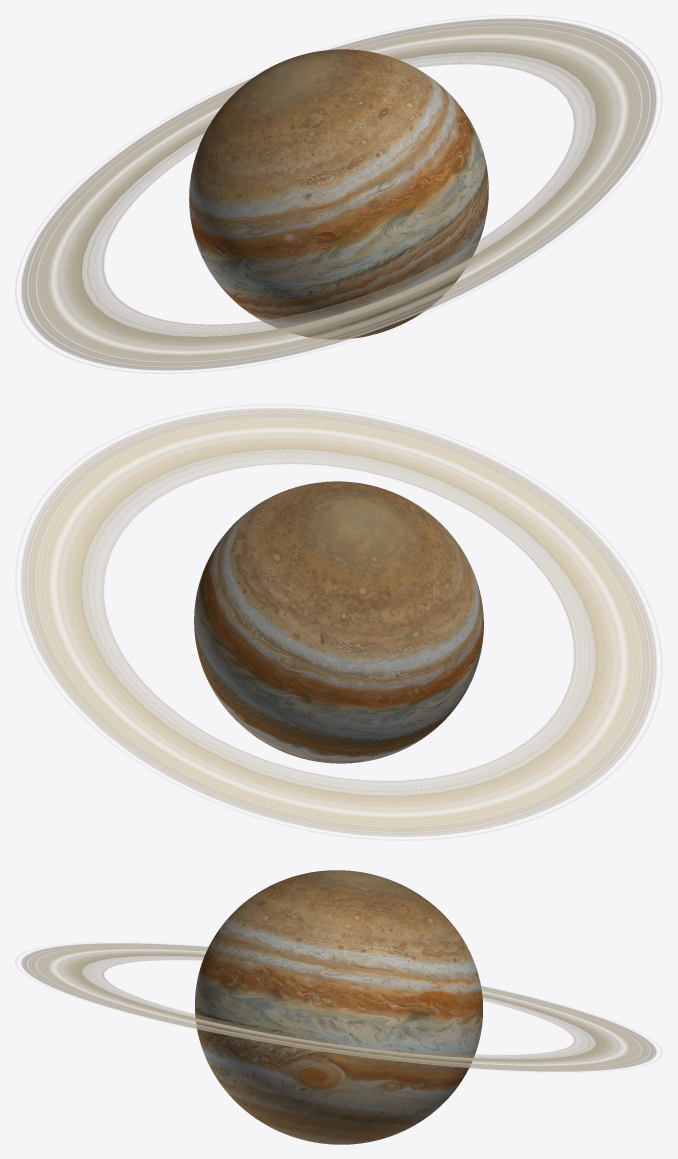
The model's file is jupiter.glb.
The picture shows the model from 3 angles, top to bottom: view 1: azimuth 30°, elevation 25°; view 2: azimuth 150°, elevation 25°; view 3: azimuth 270°, elevation 25°; orthographic projection. The views are drawn at different scales.
Visible parts, largest first — view 1: jupiter1_A, jupiter2_B.001; view 2: jupiter2_B.001, jupiter1_A; view 3: jupiter1_A, jupiter2_B.001.
Part boxes in pixels (x1,y1,x2,y2): jupiter1_A: [189, 49, 488, 339]; jupiter2_B.001: [15, 15, 661, 373]; jupiter2_B.001: [16, 408, 662, 840]; jupiter1_A: [194, 481, 483, 763]; jupiter1_A: [195, 870, 482, 1144]; jupiter2_B.001: [15, 943, 661, 1071].
Bounding box in the file's own units: 3119 × 1365 × 3221.
Materials: 2 (2 with a texture image).
